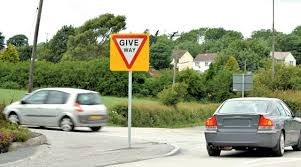giveway: (108, 32, 151, 74), (112, 31, 134, 69), (129, 32, 143, 75)
